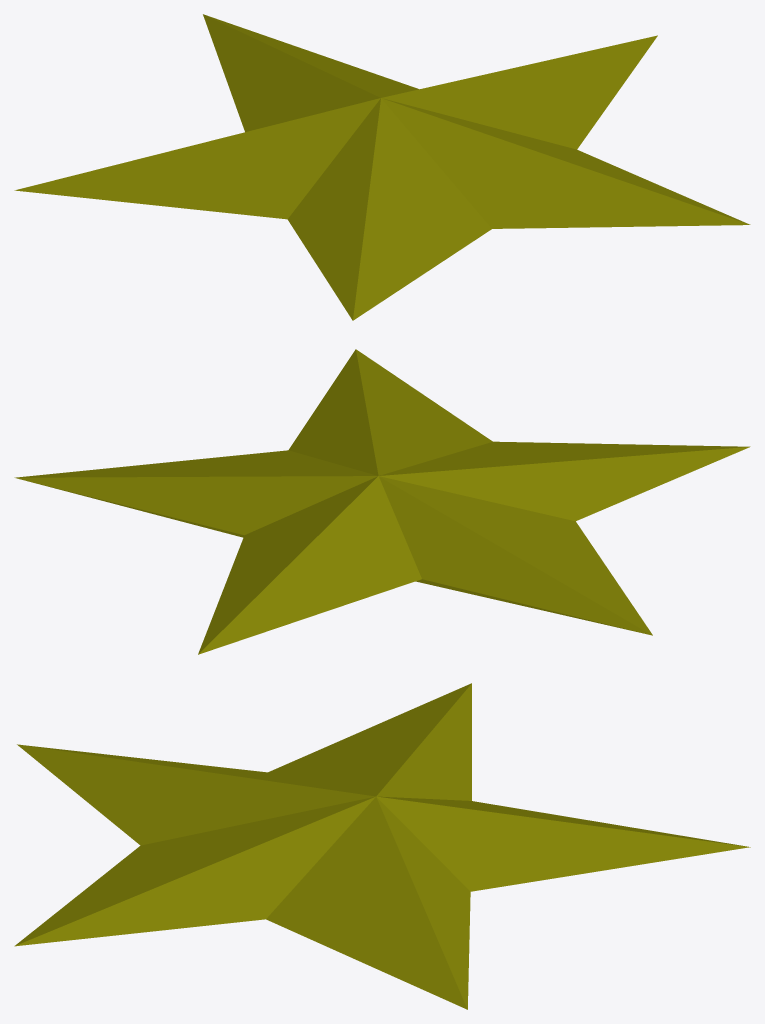
Rendered from star.obj.
The picture shows the model from 3 angles, top to bottom: view 1: azimuth 30°, elevation 25°; view 2: azimuth 150°, elevation 25°; view 3: azimuth 270°, elevation 25°; orthographic projection. The views are drawn at different scales.
Visible parts, largest first — view 1: pCylinder1; view 2: pCylinder1; view 3: pCylinder1.
Part boxes in pixels (x1,y1,x2,y2): pCylinder1: [14, 14, 750, 320]; pCylinder1: [14, 349, 750, 654]; pCylinder1: [14, 683, 750, 1009].
Size of the model in its own units: 15.71 by 2.27 by 14.97.
